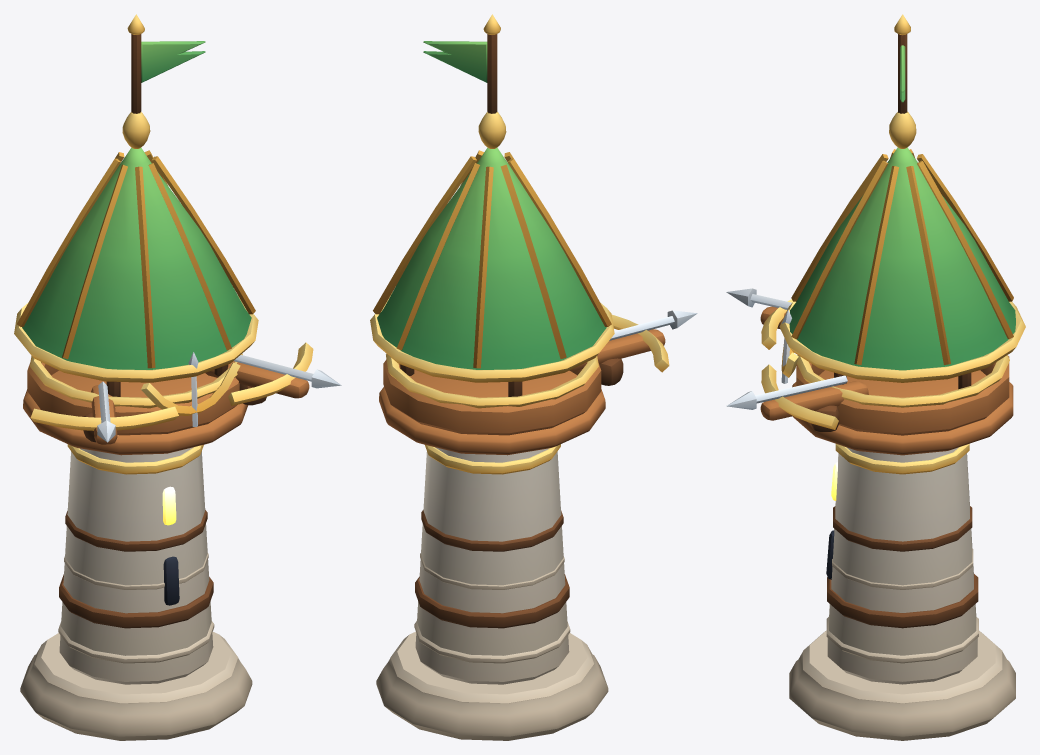
Rendered from Archer_RapidFire.fbx.
3 views of the same model, side by side, from view 1: azimuth 30°, elevation 25°; view 2: azimuth 150°, elevation 25°; view 3: azimuth 270°, elevation 25° (orthographic).
Parts seen in each view (by area): view 1: ArcherBody; view 2: ArcherBody; view 3: ArcherBody.
Boxes of the visible parts, x1=… form: ArcherBody: x1=14, y1=14, x2=341, y2=740; ArcherBody: x1=370, y1=14, x2=697, y2=740; ArcherBody: x1=726, y1=14, x2=1025, y2=740.
Bounding box in the file's own units: 1.85 × 4.27 × 1.7.
